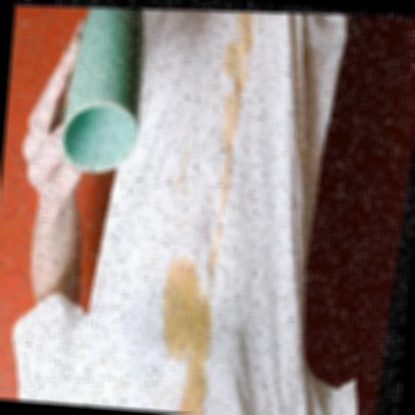coffee: (156, 256, 218, 365), (214, 94, 241, 211), (216, 15, 257, 89), (181, 369, 207, 415)
